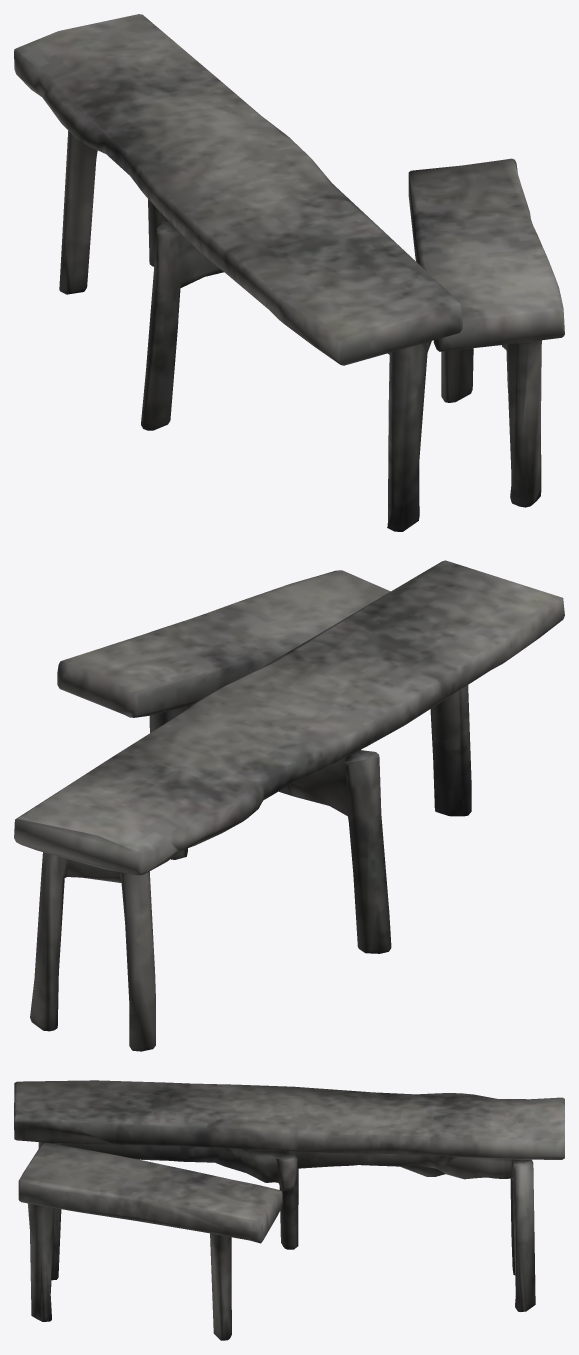
Rendered from sturdy-granite-bench-v001.glb.
3 views of the same model, one above another, from view 1: azimuth 30°, elevation 25°; view 2: azimuth 150°, elevation 25°; view 3: azimuth 270°, elevation 25° (orthographic). The views are drawn at different scales.
Visible parts, largest first — view 1: sturdy-granite-bench; view 2: sturdy-granite-bench; view 3: sturdy-granite-bench.
Boxes of the visible parts, x1,y1,x2,y2 form: sturdy-granite-bench: (14, 14, 564, 531); sturdy-granite-bench: (14, 560, 564, 1051); sturdy-granite-bench: (14, 1080, 564, 1340).
Bounding box in the file's own units: 0.6364 × 0.3959 × 1.17.
1 material, 1 textured.
